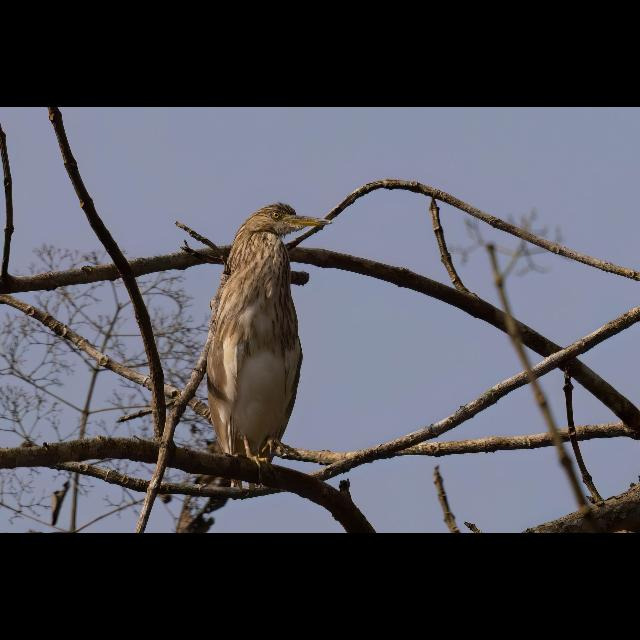heron: (203, 195, 337, 492)
